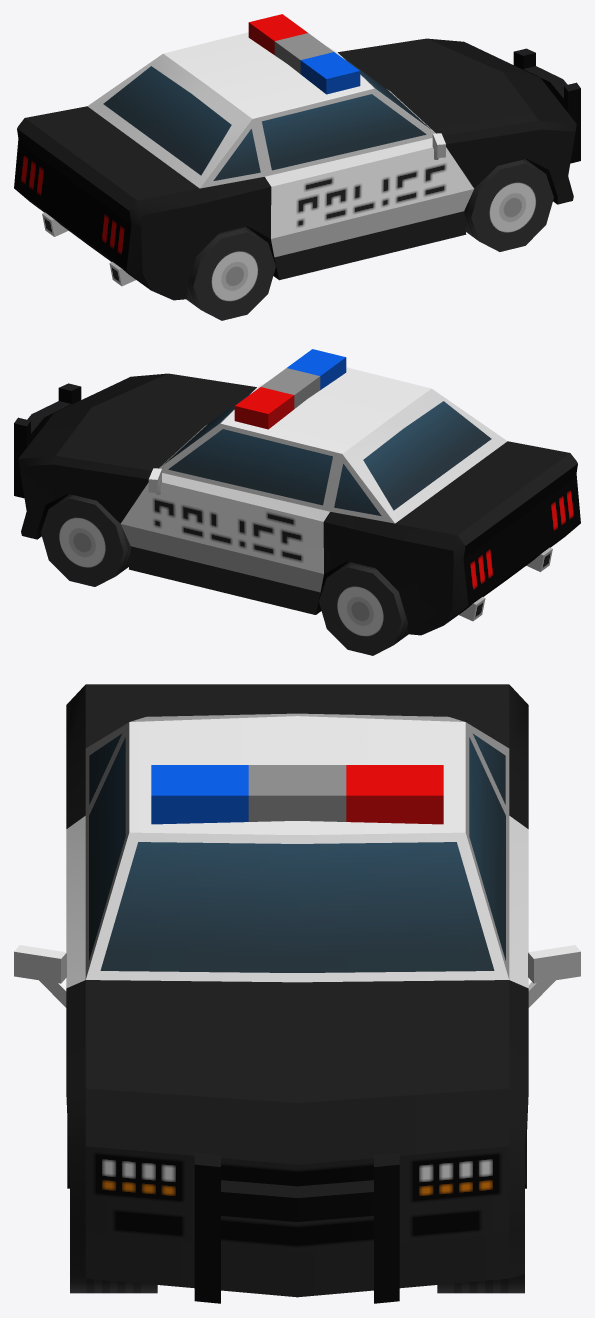
The model's file is Emergency_032.glb.
The picture shows the model from 3 angles, top to bottom: view 1: azimuth 30°, elevation 25°; view 2: azimuth 150°, elevation 25°; view 3: azimuth 270°, elevation 25°; orthographic projection. The views are drawn at different scales.
Visible parts, largest first — view 1: Emergency_032, wheel_3_Emergency_032_Wheel_2R, wheel_1_Emergency_032_Wheel_1R; view 2: Emergency_032, wheel_2_Emergency_032_Wheel_2L, wheel_0_Emergency_032_Wheel_1L; view 3: Emergency_032, wheel_0_Emergency_032_Wheel_1L, wheel_1_Emergency_032_Wheel_1R.
Part boxes in pixels (<box>): Emergency_032: <box>14,14,580,300</box>; wheel_3_Emergency_032_Wheel_2R: <box>186,227,275,320</box>; wheel_1_Emergency_032_Wheel_1R: <box>464,159,553,251</box>; Emergency_032: <box>14,349,580,635</box>; wheel_2_Emergency_032_Wheel_2L: <box>319,562,408,655</box>; wheel_0_Emergency_032_Wheel_1L: <box>41,494,130,586</box>; Emergency_032: <box>14,684,580,1303</box>; wheel_0_Emergency_032_Wheel_1L: <box>437,1274,524,1293</box>; wheel_1_Emergency_032_Wheel_1R: <box>70,1274,157,1293</box>.
Bounding box in the file's own units: 4.15 × 1.56 × 2.2.
1 material, 1 textured.
